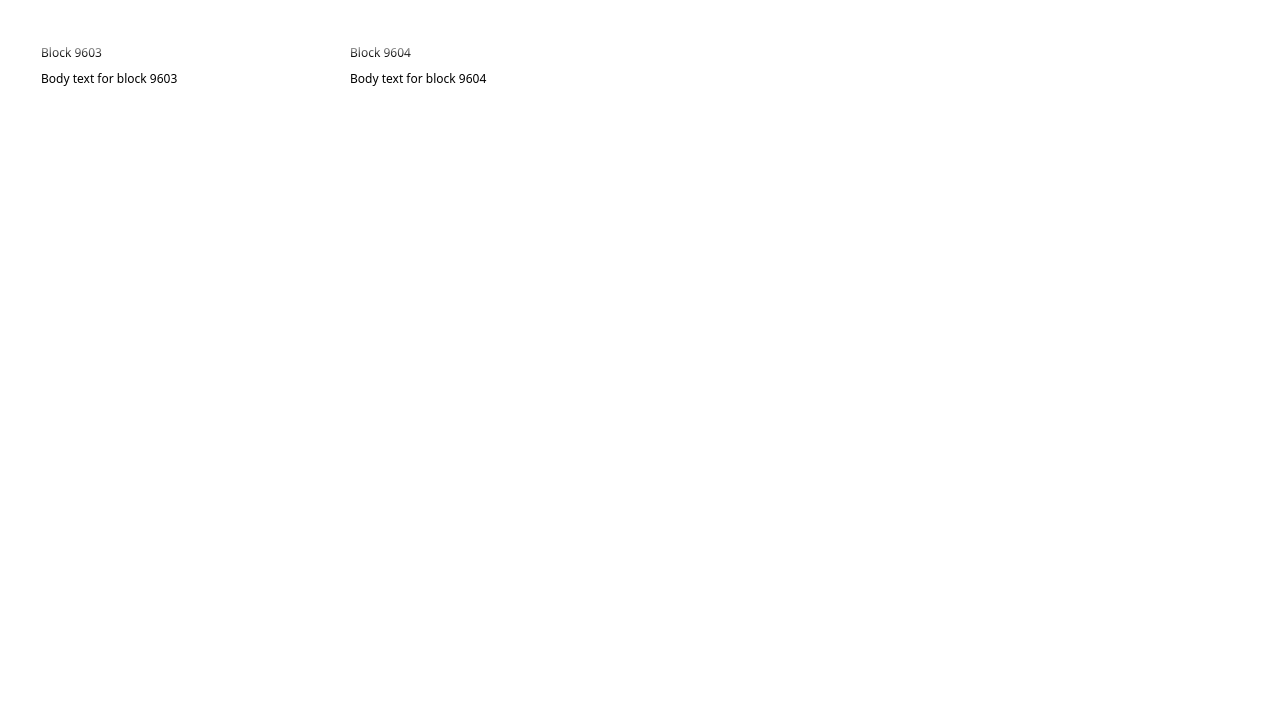
Scenario: Grid — group delete window › deletes only the cards with Keep media
This screenshot has width=1280, height=720.
Press ArrowDown
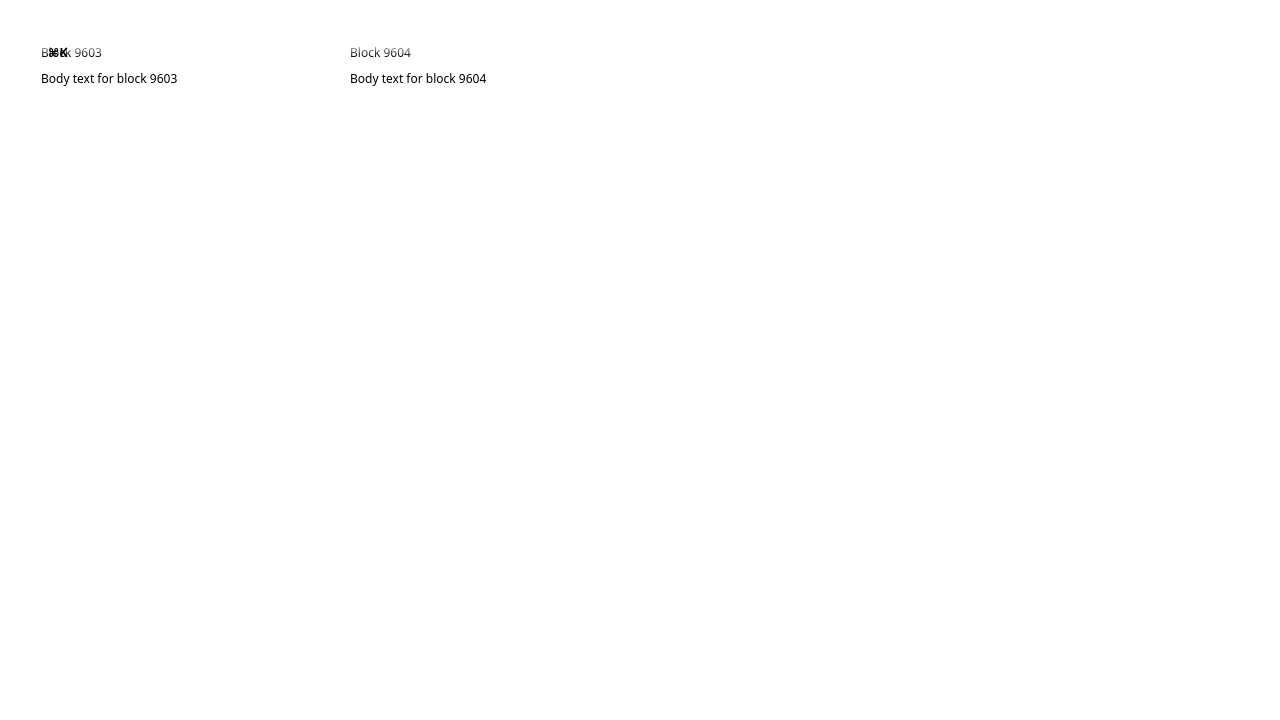
Press Enter
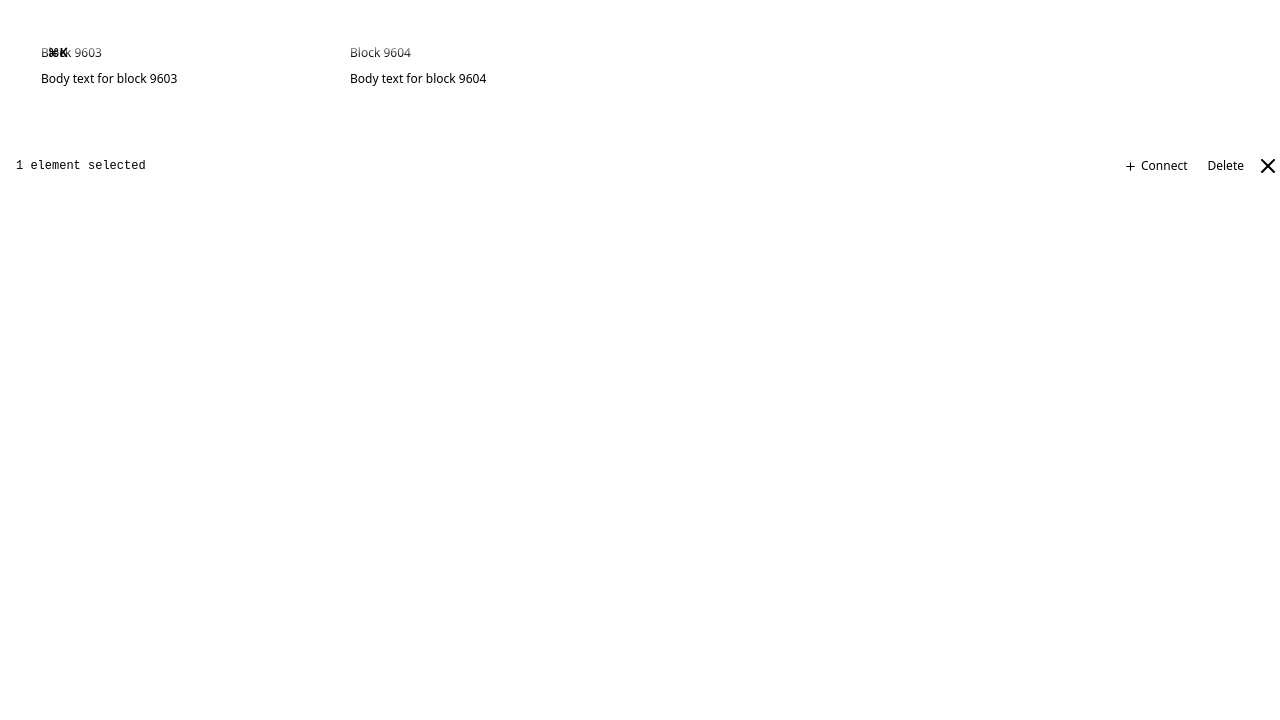
Press ArrowRight
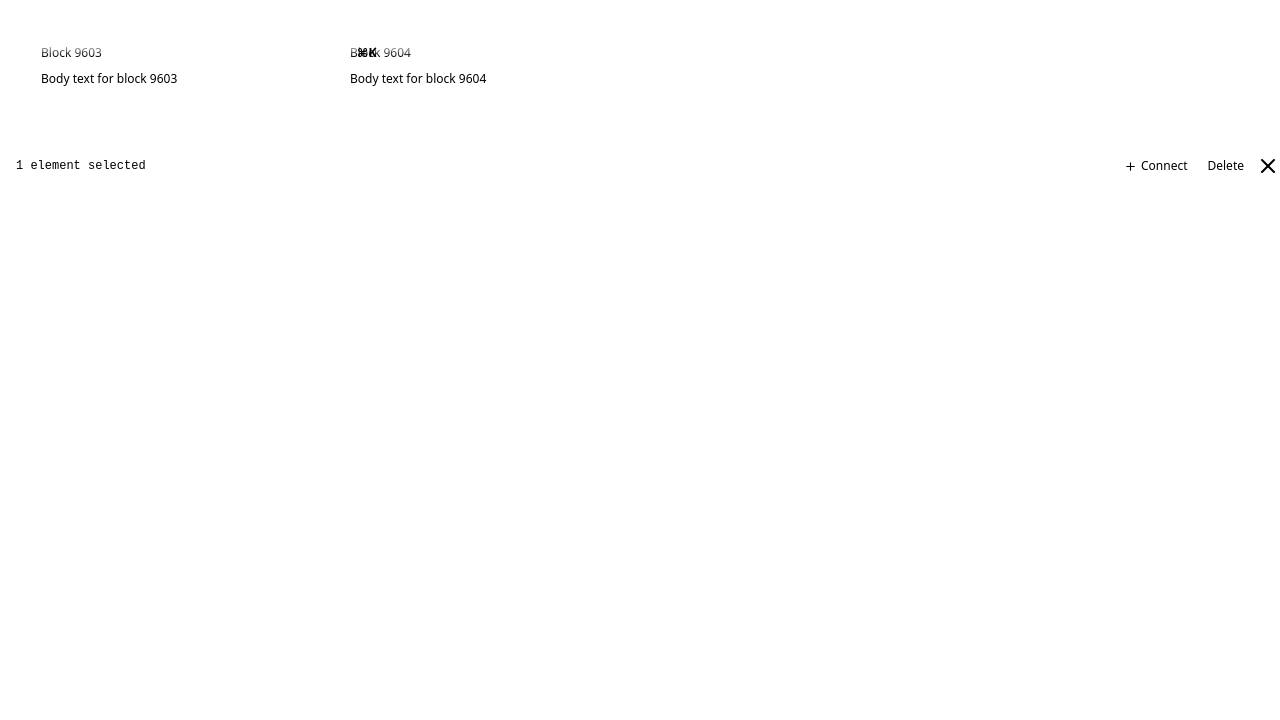
Press Enter
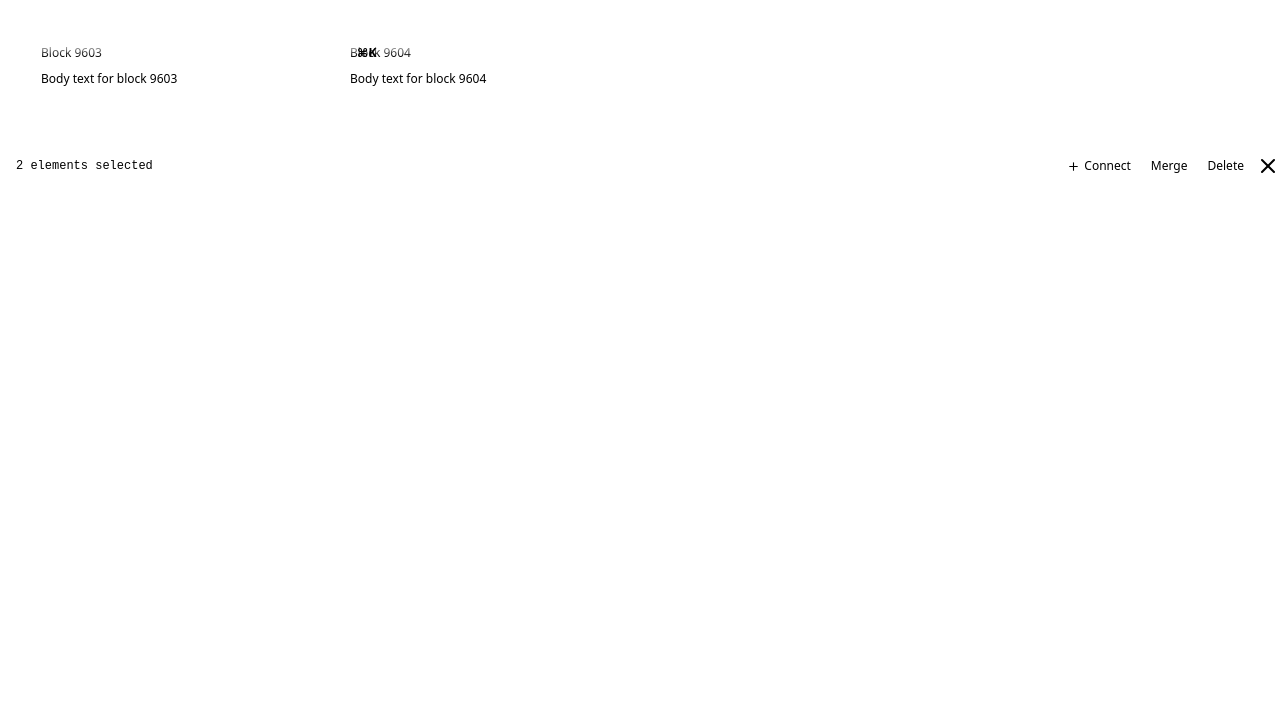
Press Backspace
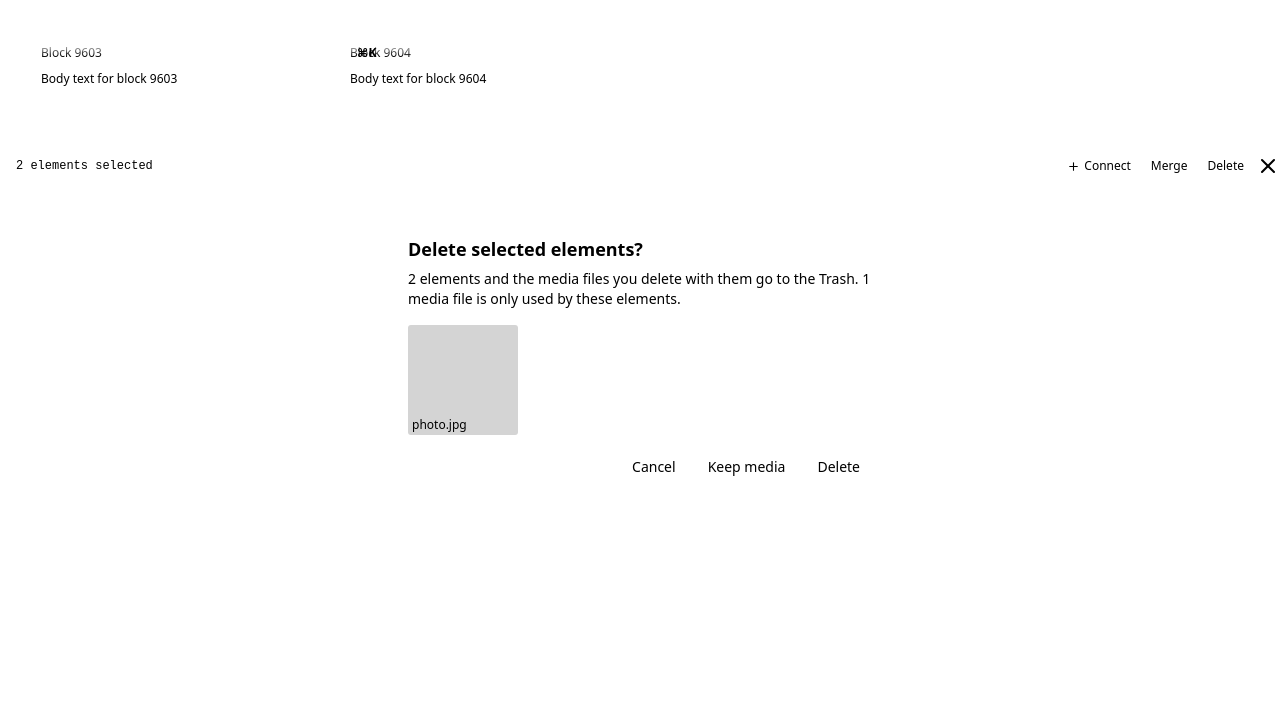
Click the button "Keep media": click(746, 467) [696,451,797,483]
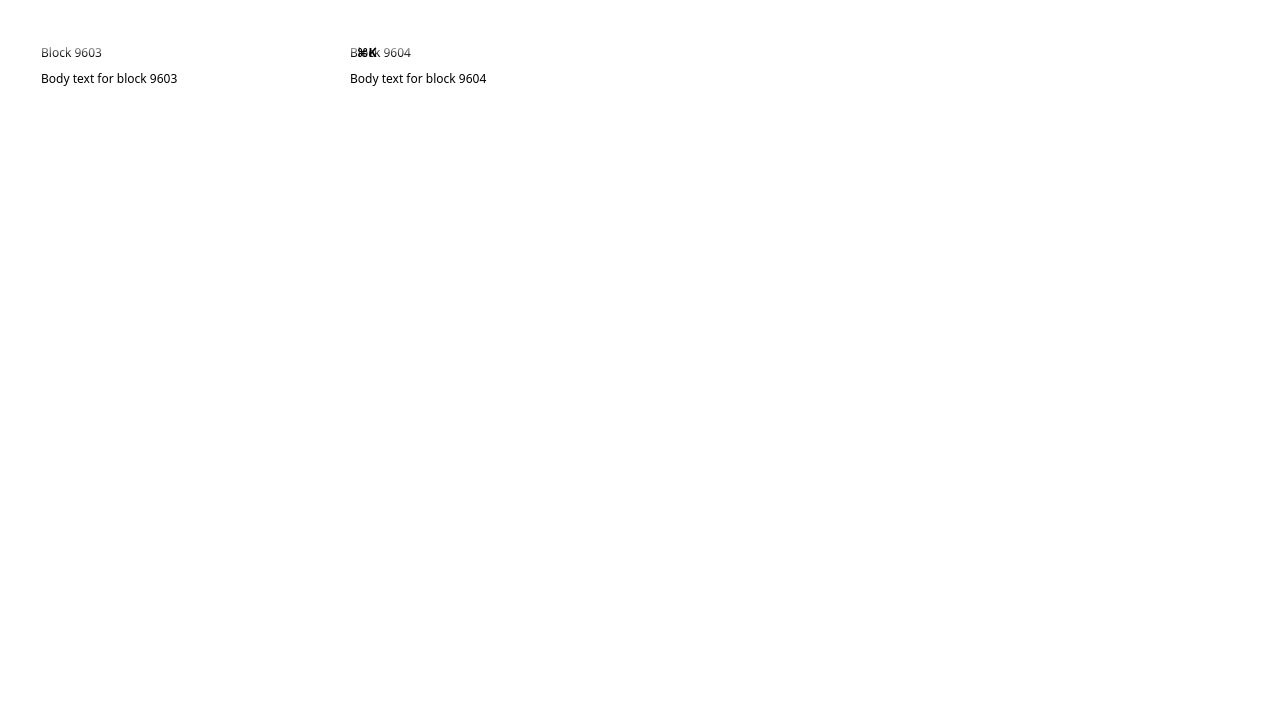
Expected: the dialog is gone
